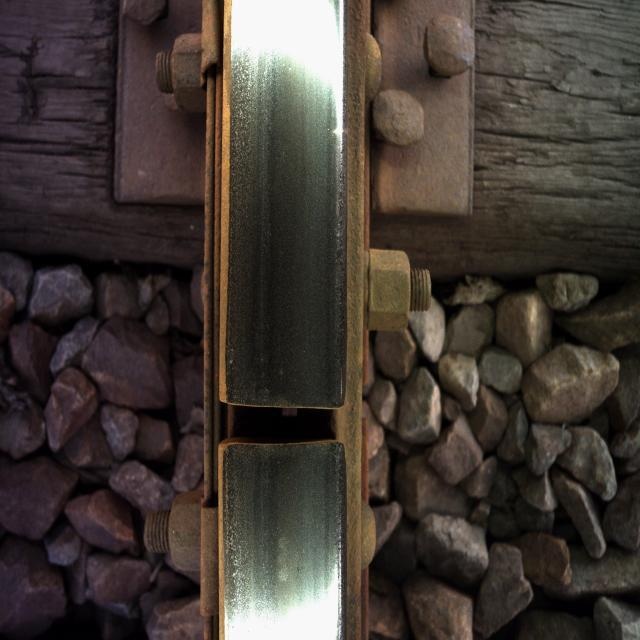spalling: (194, 358, 392, 498)
